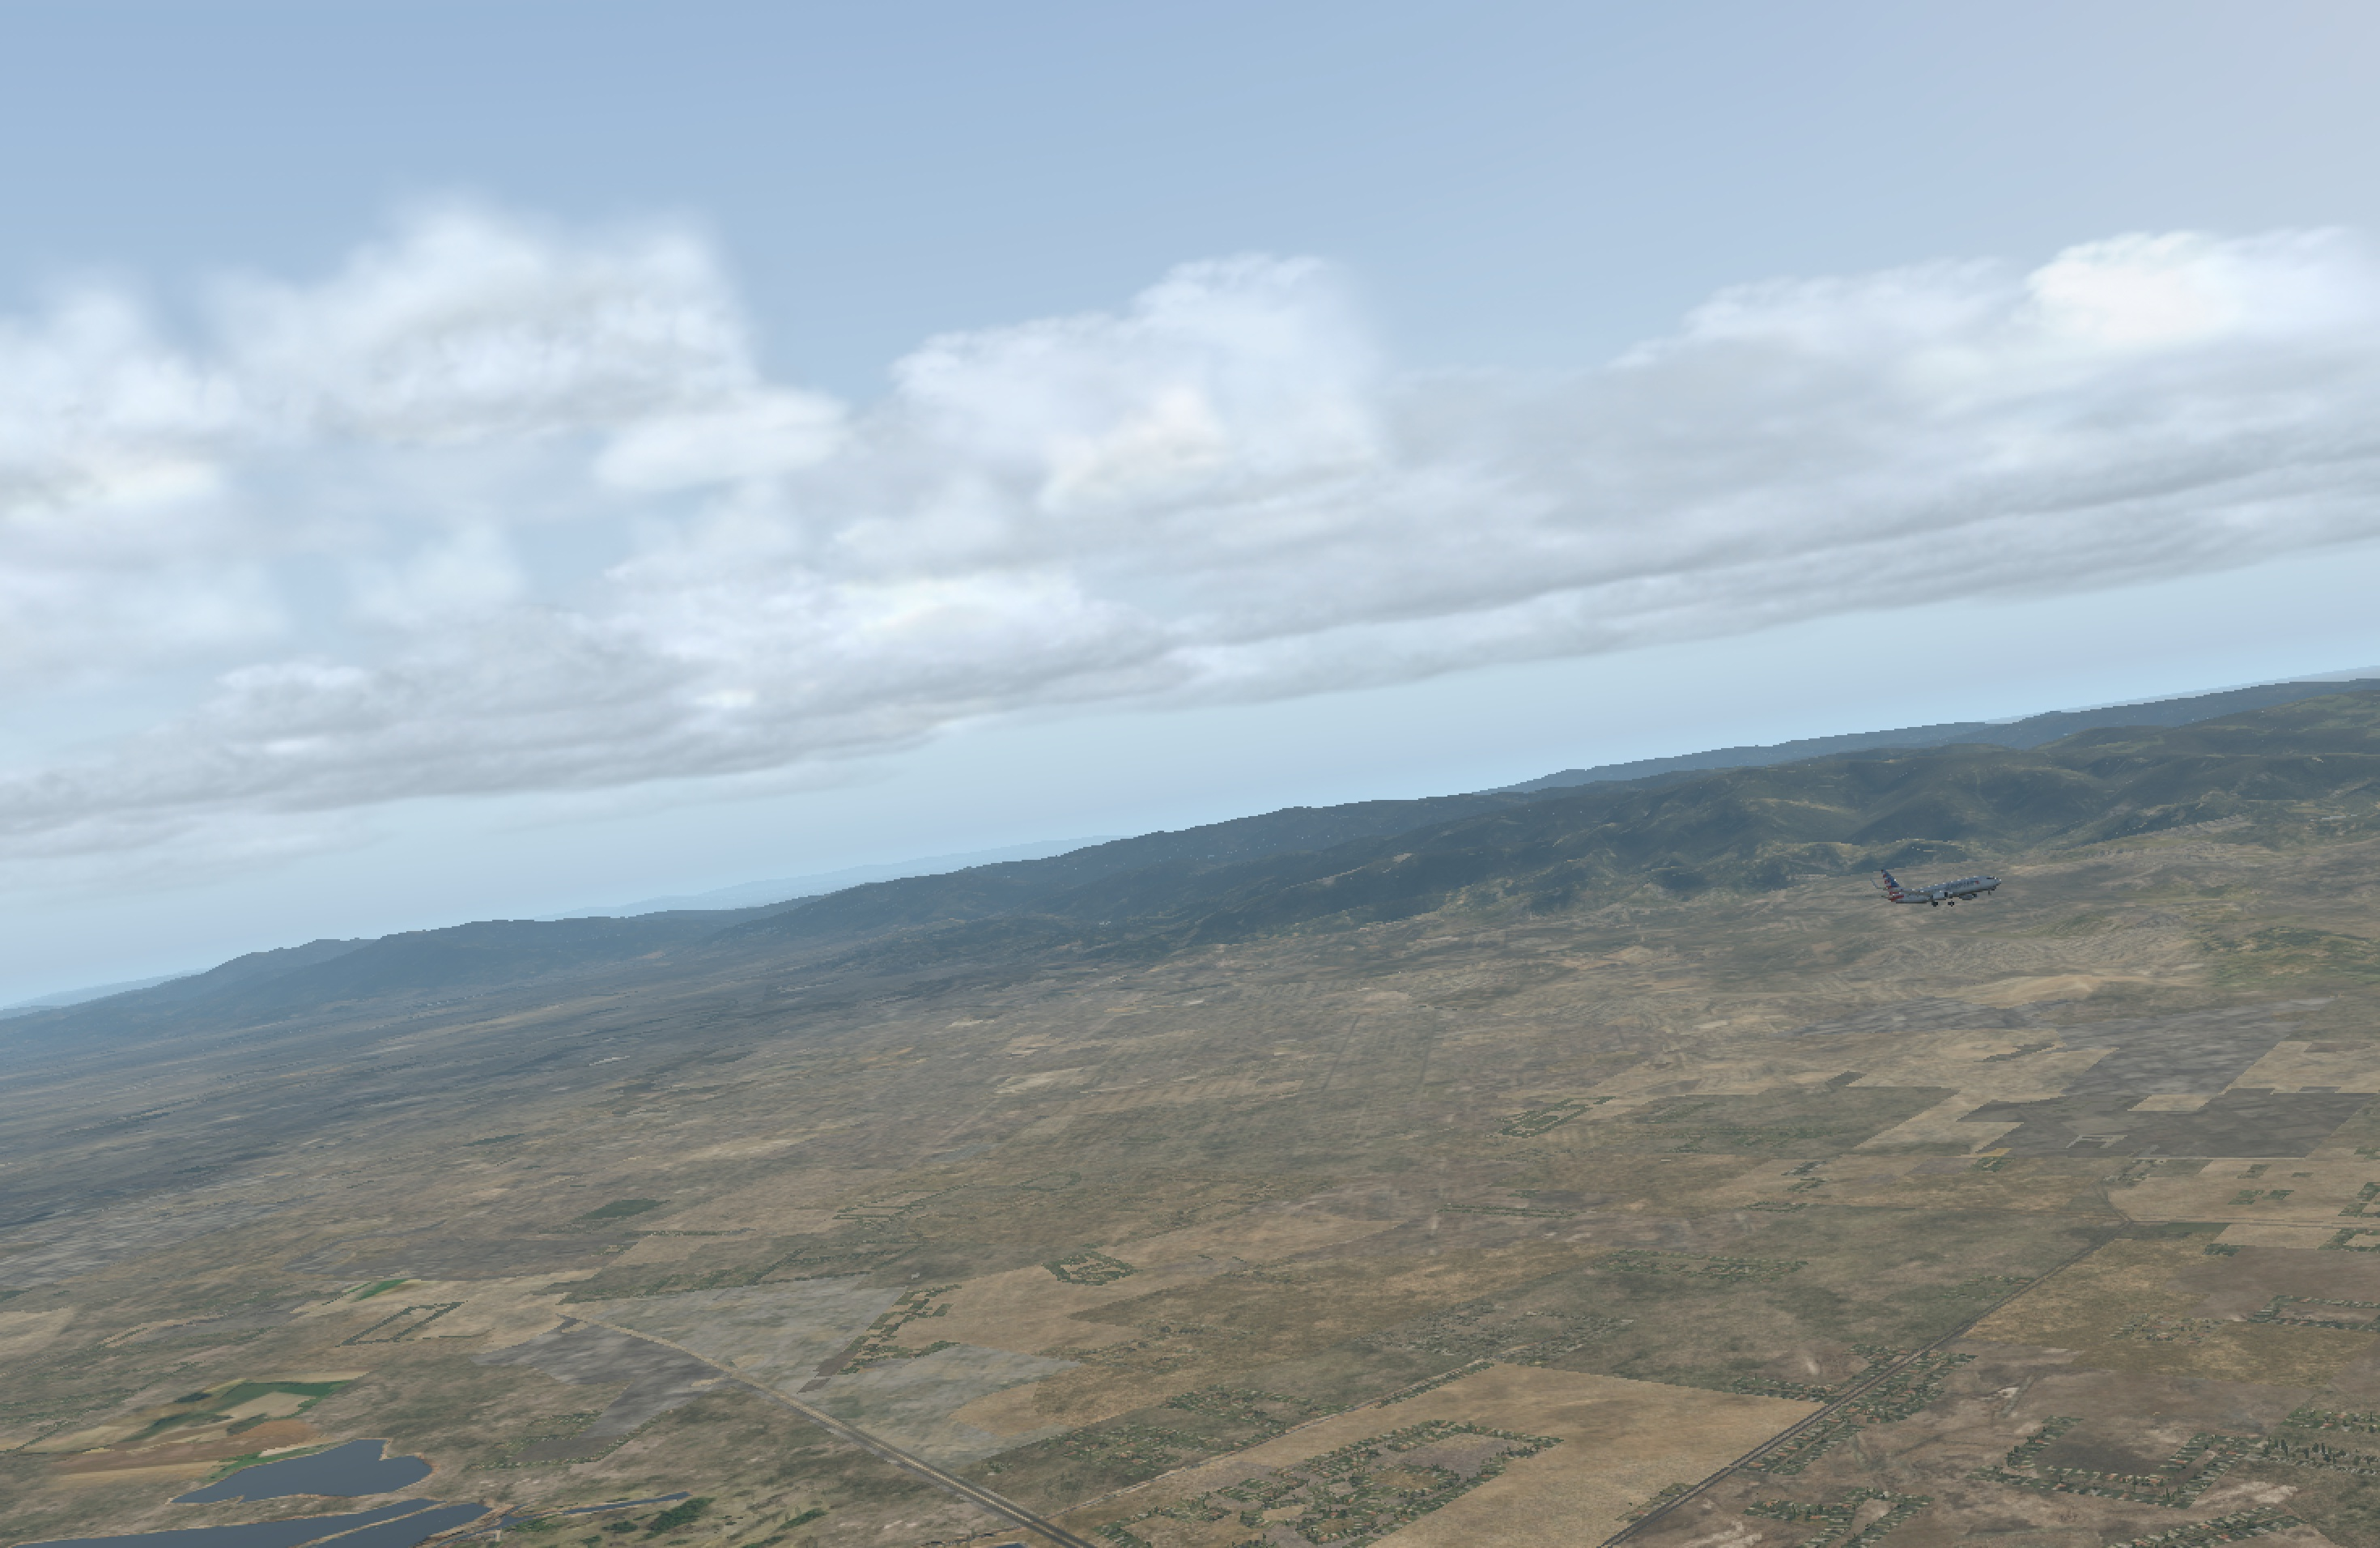aircraft: (1873, 866, 2017, 920)
